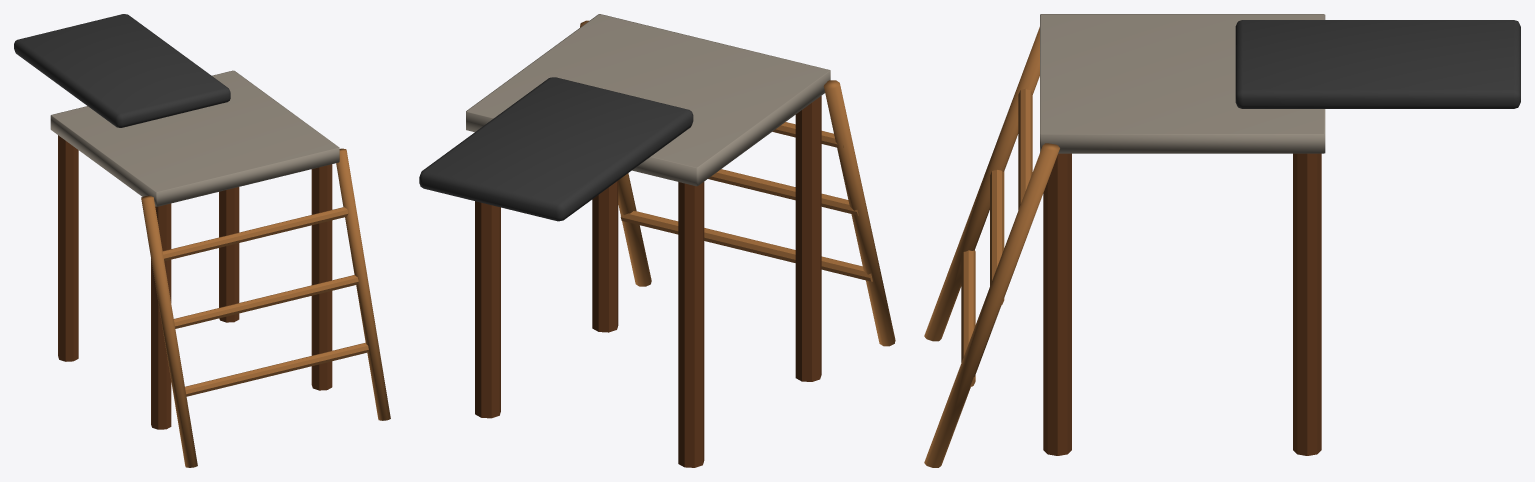
Rendered from JumpThing.fbx.
3 renders of one model, left to right at view 1: azimuth 30°, elevation 25°; view 2: azimuth 150°, elevation 25°; view 3: azimuth 270°, elevation 25°, orthographic. The views are drawn at different scales.
Visible parts, largest first — view 1: ugrodeszka; view 2: ugrodeszka; view 3: ugrodeszka.
Boxes of the visible parts, x1,y1,x2,y2 form: ugrodeszka: (14, 14, 390, 467); ugrodeszka: (419, 14, 895, 467); ugrodeszka: (924, 14, 1520, 467).
Bounding box in the file's own units: 0.89 × 1.08 × 1.67.
Materials: 1 (1 with a texture image).
